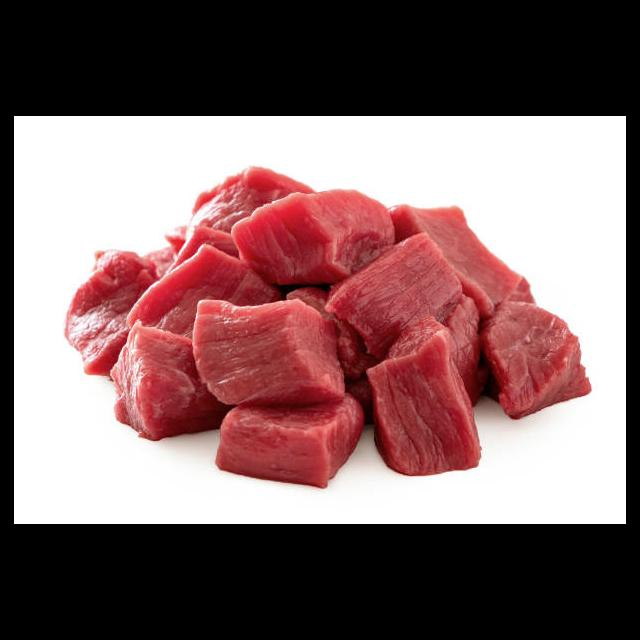beef: (68, 164, 591, 489)
